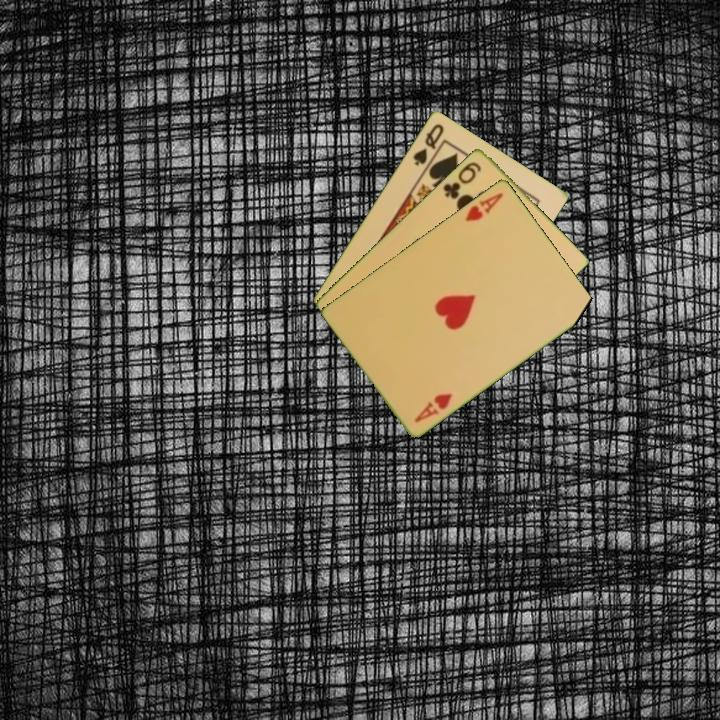6c: (439, 158, 484, 202)
Ah: (411, 389, 455, 425), (462, 189, 506, 224)
Qs: (409, 120, 447, 168)
